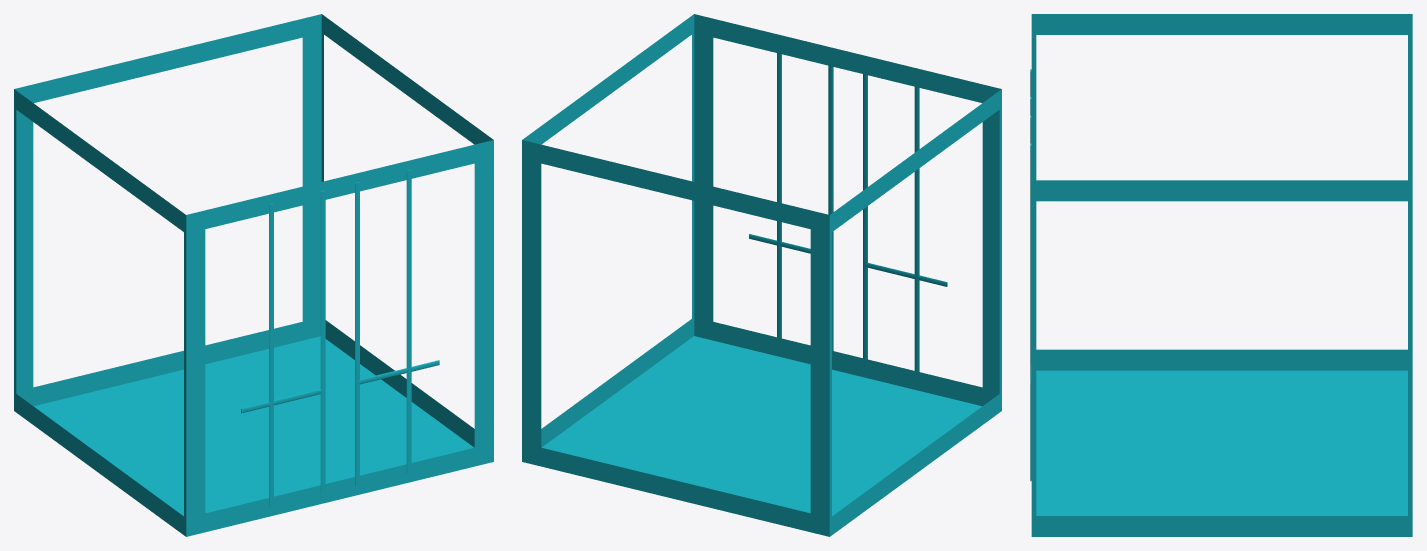
The picture shows the model from 3 angles, left to right: view 1: azimuth 30°, elevation 25°; view 2: azimuth 150°, elevation 25°; view 3: azimuth 270°, elevation 25°; orthographic projection. The views are drawn at different scales.
Visible parts, largest first — view 1: group_0 (×5); view 2: group_0 (×5); view 3: group_0 (×2).
Boxes of the visible parts, bbox=[...] form: group_0 (×5): bbox=[14, 14, 493, 536]; group_0 (×5): bbox=[522, 14, 1001, 536]; group_0 (×2): bbox=[1030, 14, 1412, 536].
Bounding box in the file's own units: 39.37 × 38.26 × 39.37.
